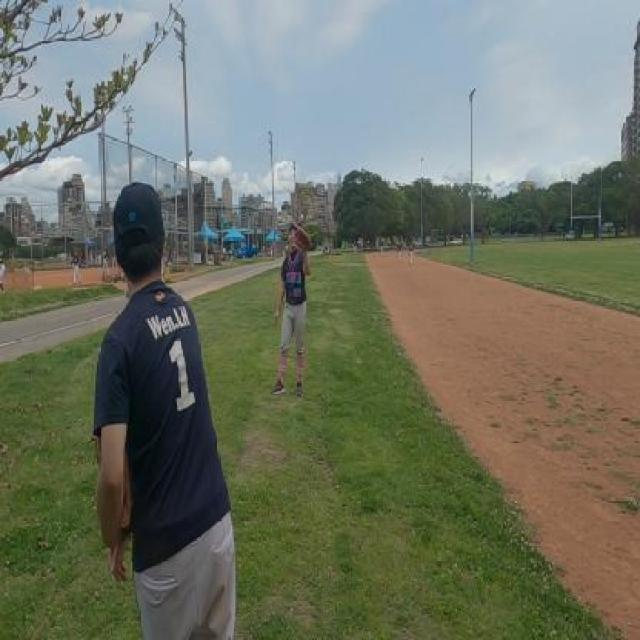baseball: (298, 212, 304, 223)
